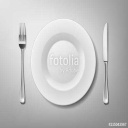Fork: (10, 20, 38, 105)
